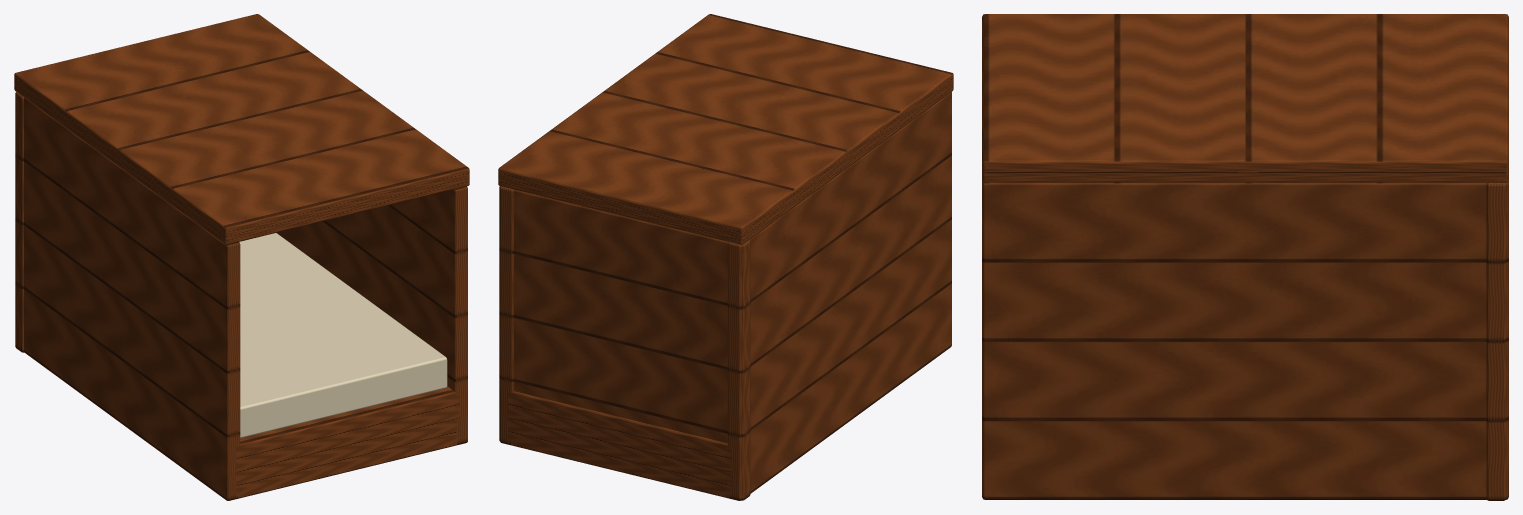
The model's file is adventurers-tavern-and-guild-hall-box-bed-3ba496e9__24704.glb.
The picture shows the model from 3 angles, left to right: view 1: azimuth 30°, elevation 25°; view 2: azimuth 150°, elevation 25°; view 3: azimuth 270°, elevation 25°; orthographic projection. The views are drawn at different scales.
Visible parts, largest first — view 1: box-bed; view 2: box-bed; view 3: box-bed.
Part boxes in pixels (box(x1,y1,x2,y2)): box-bed: box(14, 14, 469, 500); box-bed: box(498, 14, 953, 500); box-bed: box(982, 14, 1508, 500).
Size of the model in its own units: 1.4 by 1.5 by 2.1.
2 materials, 1 textured.
